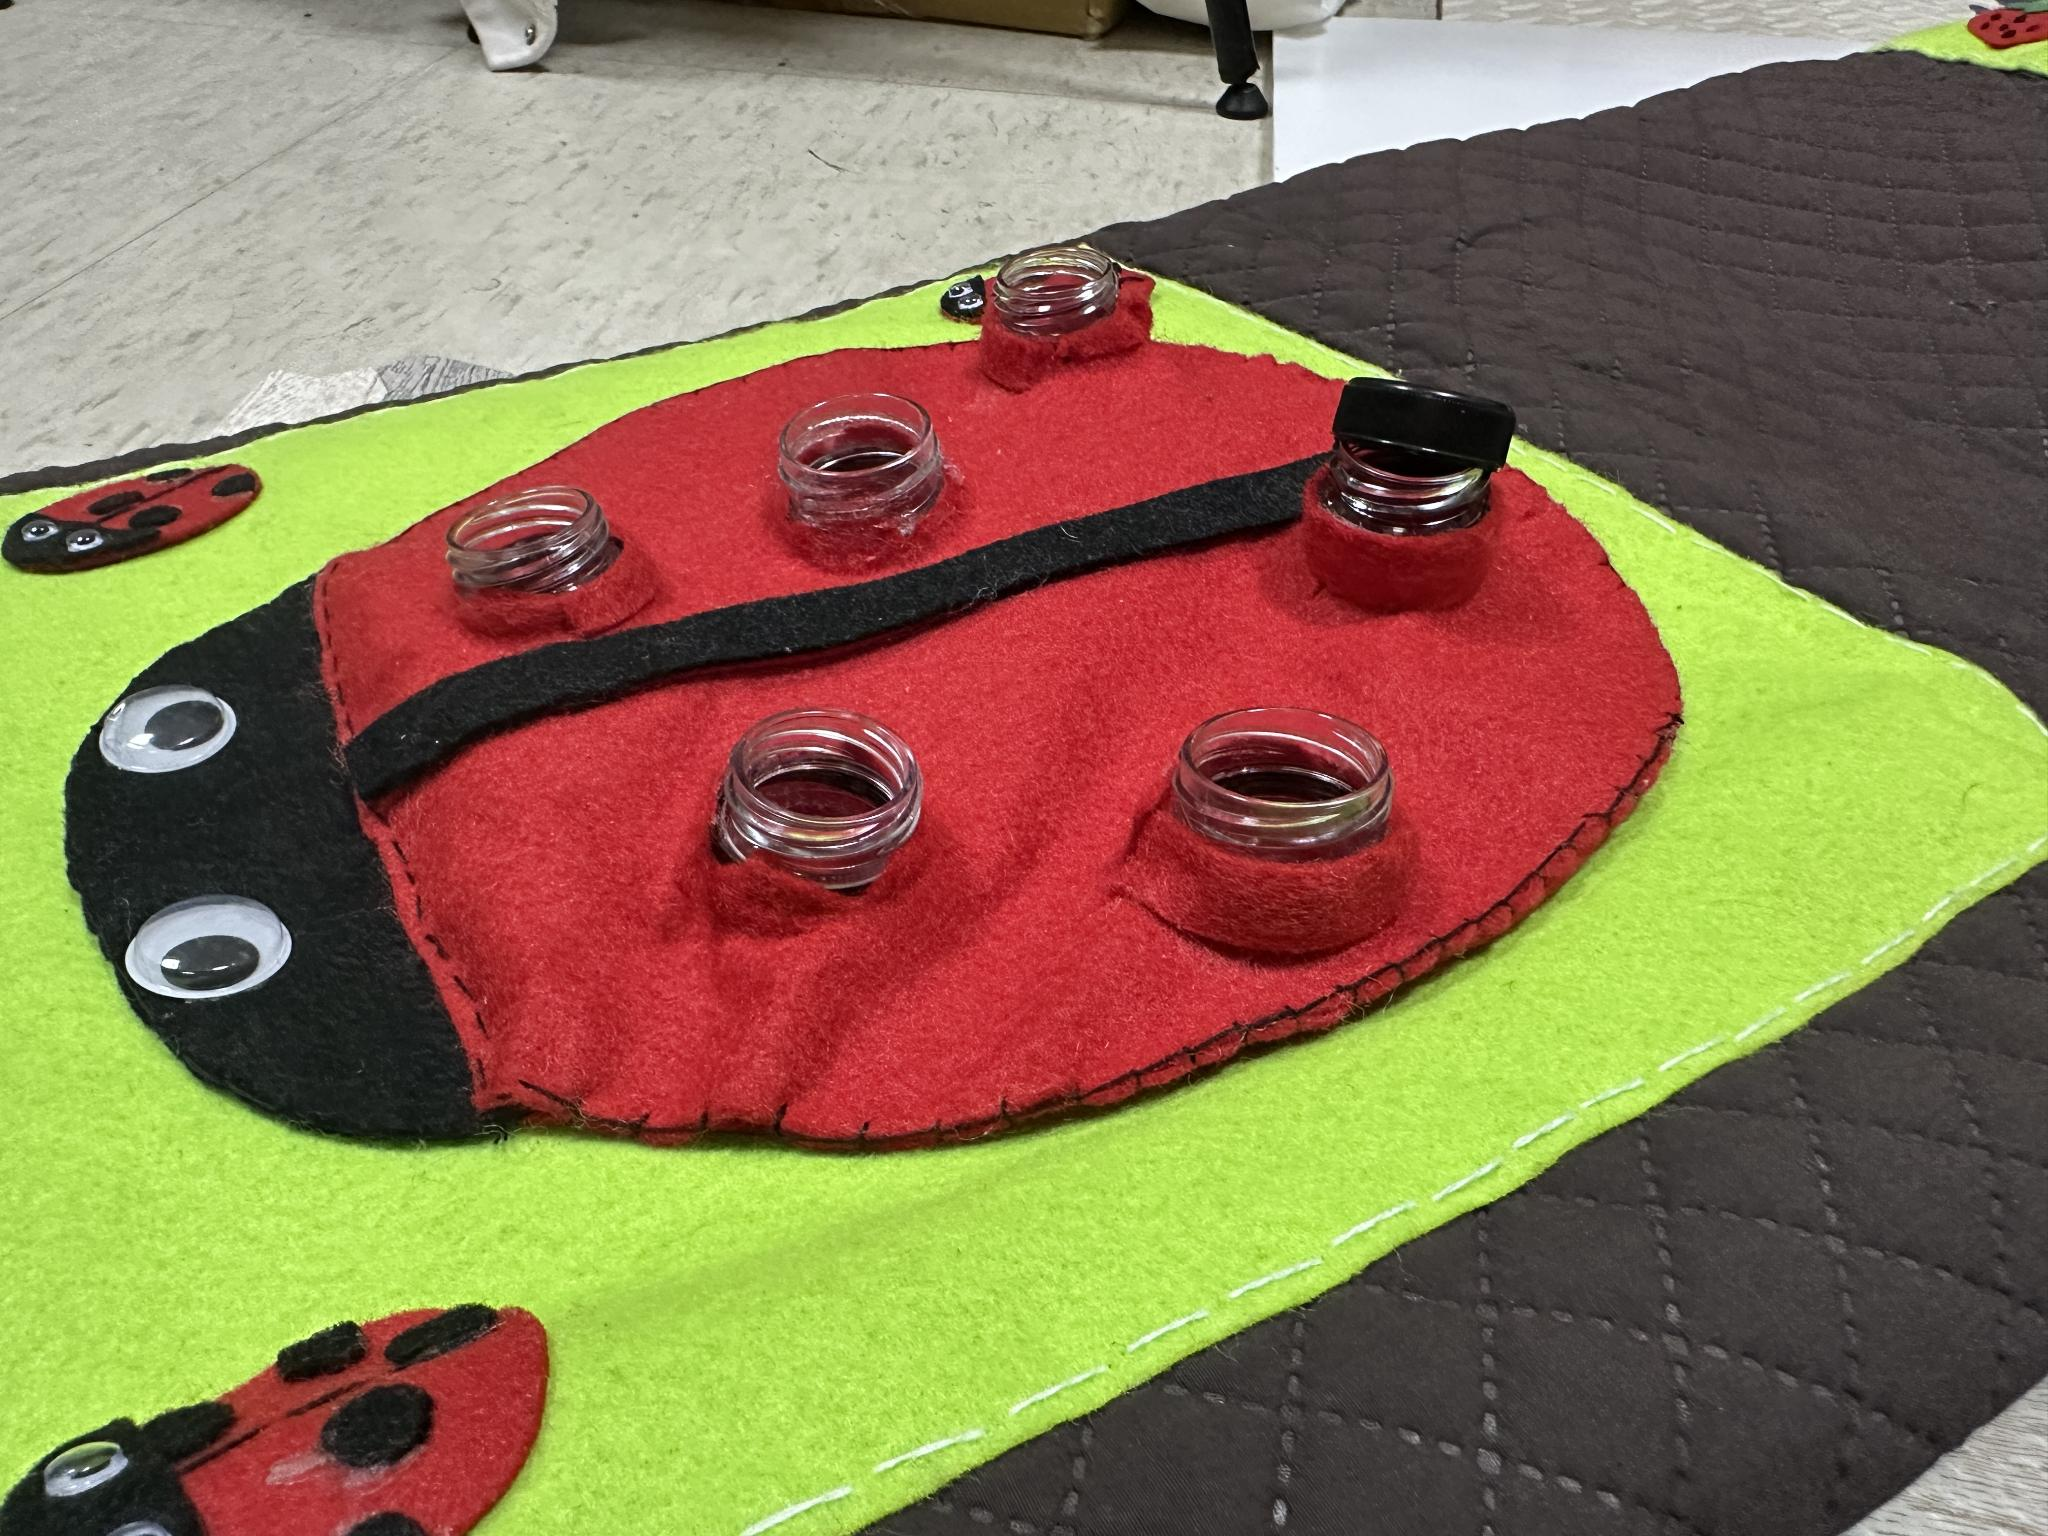cap_ng: (1301, 349, 1517, 631)
